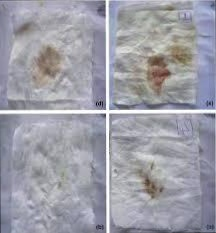blood: (146, 56, 169, 94), (143, 178, 159, 199)
